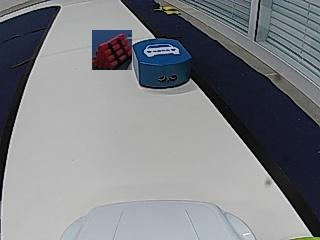safety: (143, 43, 179, 57)
